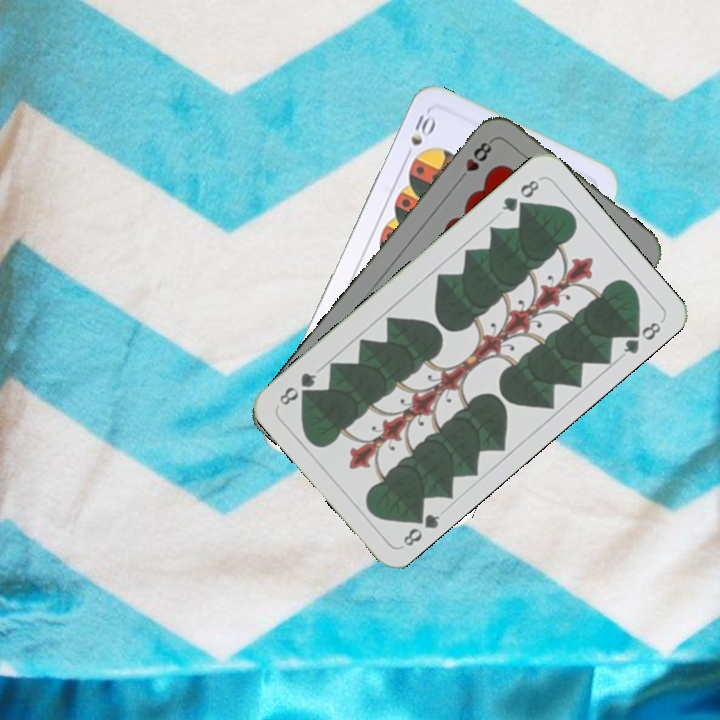G8: (399, 505, 443, 549), (497, 175, 542, 215)
H8: (453, 135, 496, 185)
S10: (400, 110, 438, 163)
